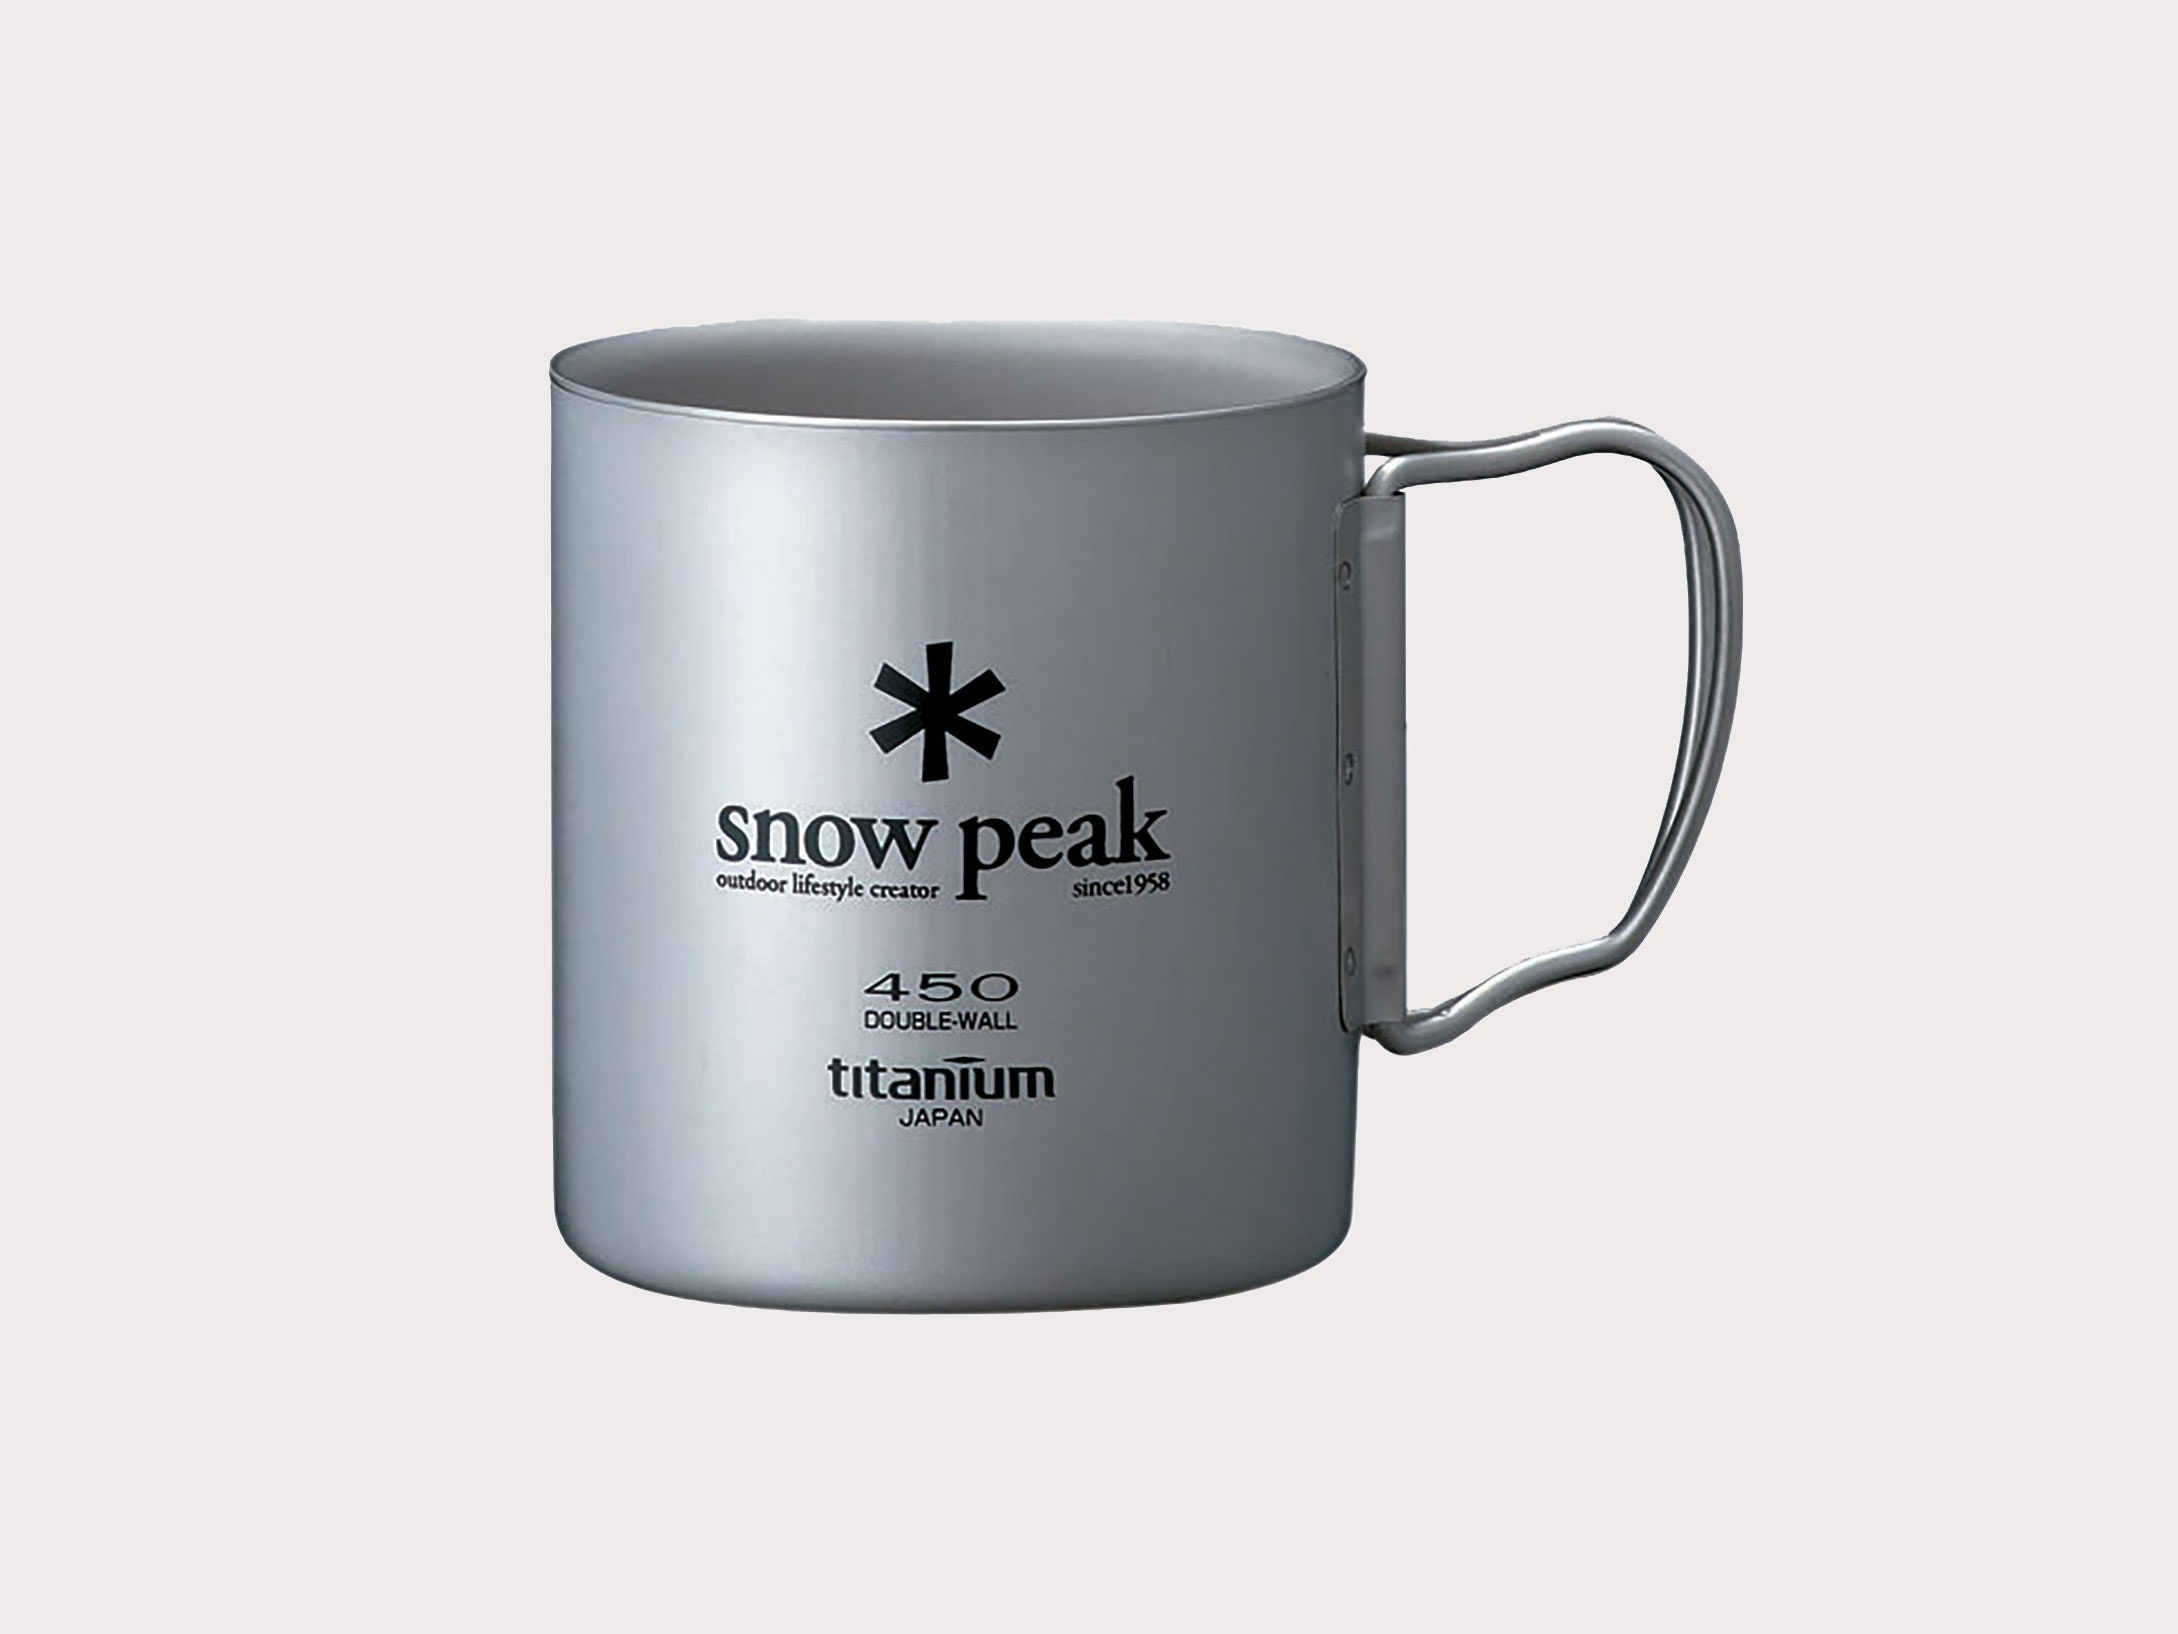cup: (455, 263, 1752, 1356)
